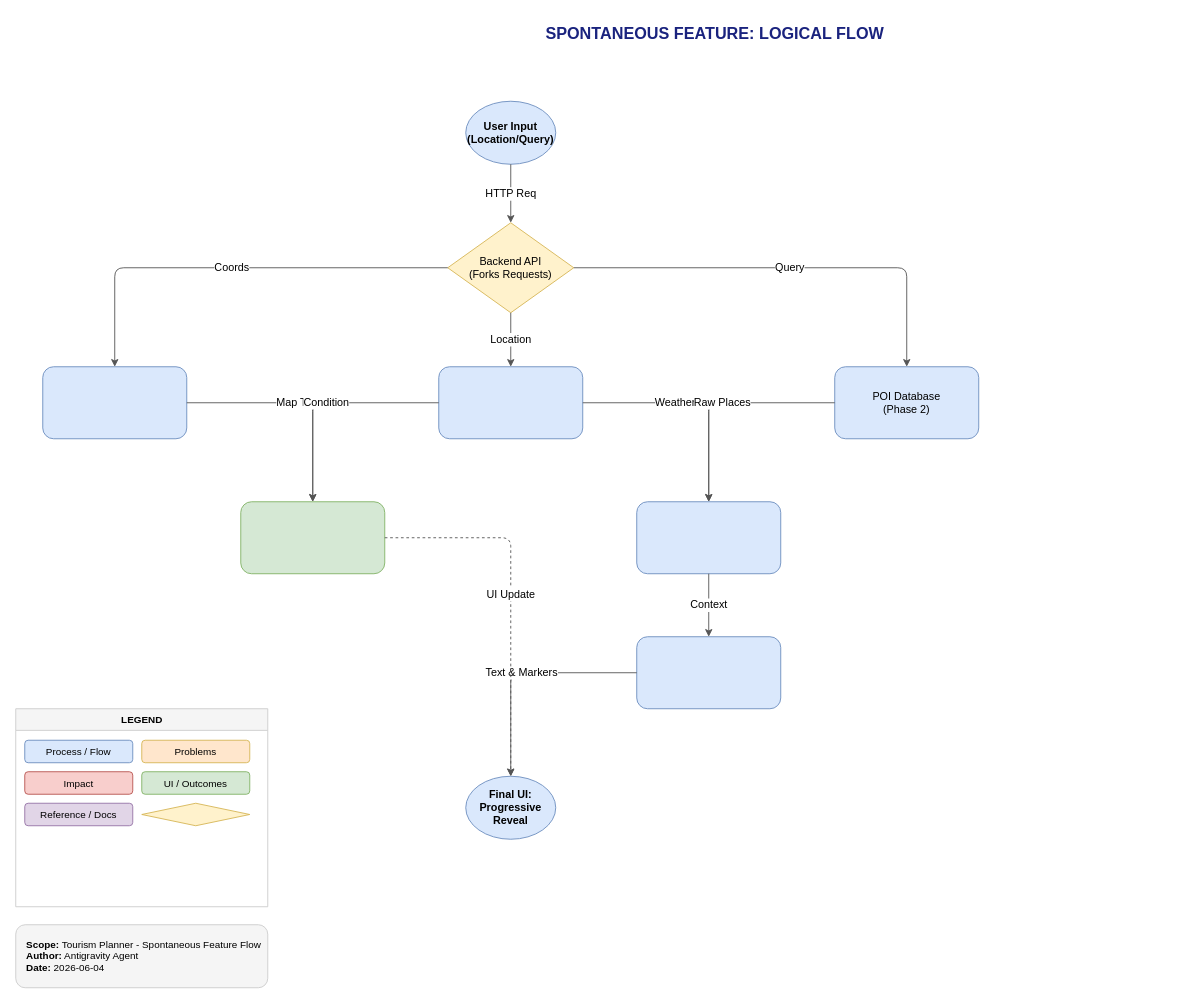
The diagram is 1181 pixels wide and 1004 high, and some of its shapes have lost their labels. The shapes that lost their labels are listed below. From the top down, each one's centre as x and y in pixels, then its label:
[114,402]: Map Tile Provider (Phase 2)
[510,402]: Weather API (Phase 2)
[312,537]: UI: Partial Output (Renders Map & Widget)
[708,537]: AI Orchestrator (Filters POIs by Weather)
[708,672]: LLM Processing (Generates Vibe & Itinerary)
[195,814]: Decision / Fork
